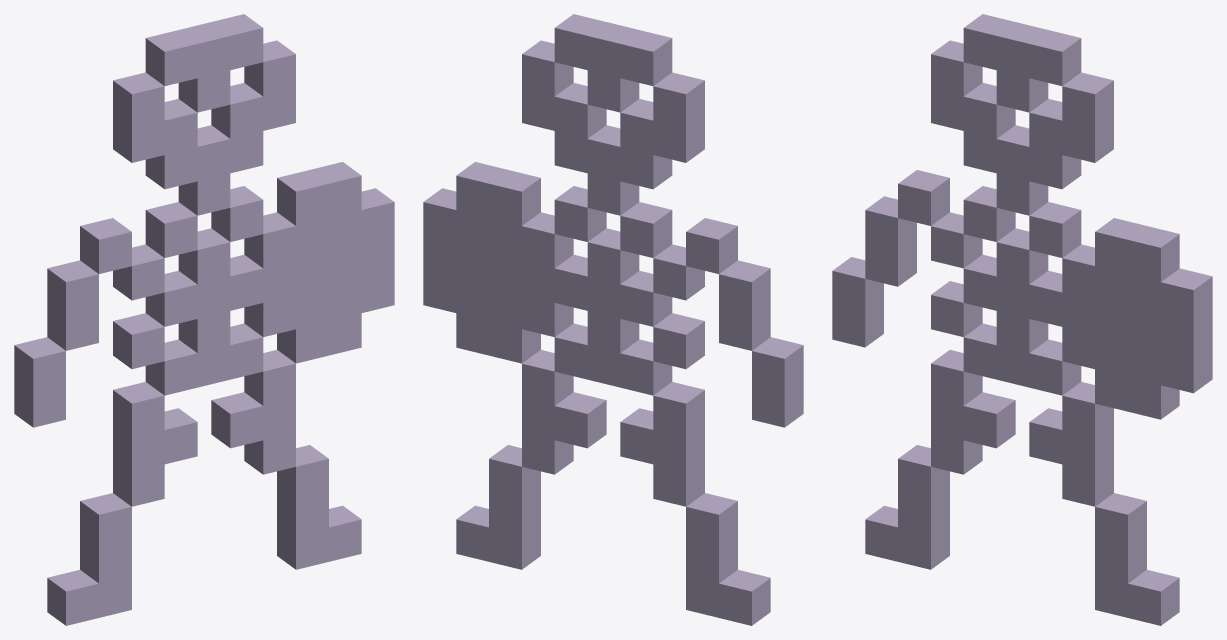
The model's file is Skeleton-Shielded-Grey.vox.obj.
3 views of the same model, side by side, from view 1: azimuth 30°, elevation 25°; view 2: azimuth 150°, elevation 25°; view 3: azimuth 330°, elevation 25° (orthographic).
Size of the model in its own units: 1.1 by 1.6 by 0.1.
Materials: 1 (1 with a texture image).
